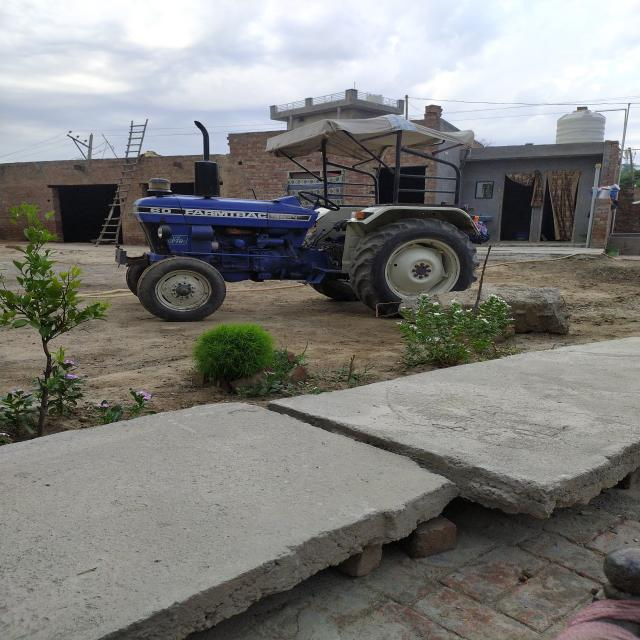tractor: (99, 125, 509, 313)
